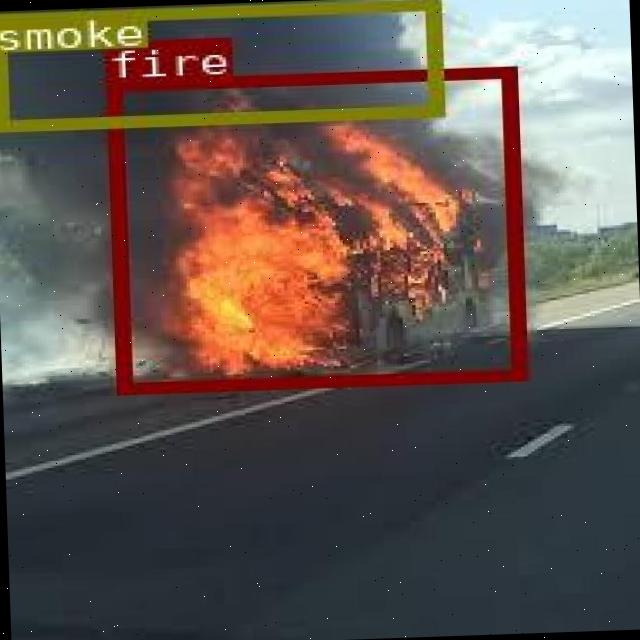fire: (106, 66, 524, 391)
smoke: (0, 0, 439, 130)
